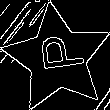P_W: (30, 36, 85, 80)
